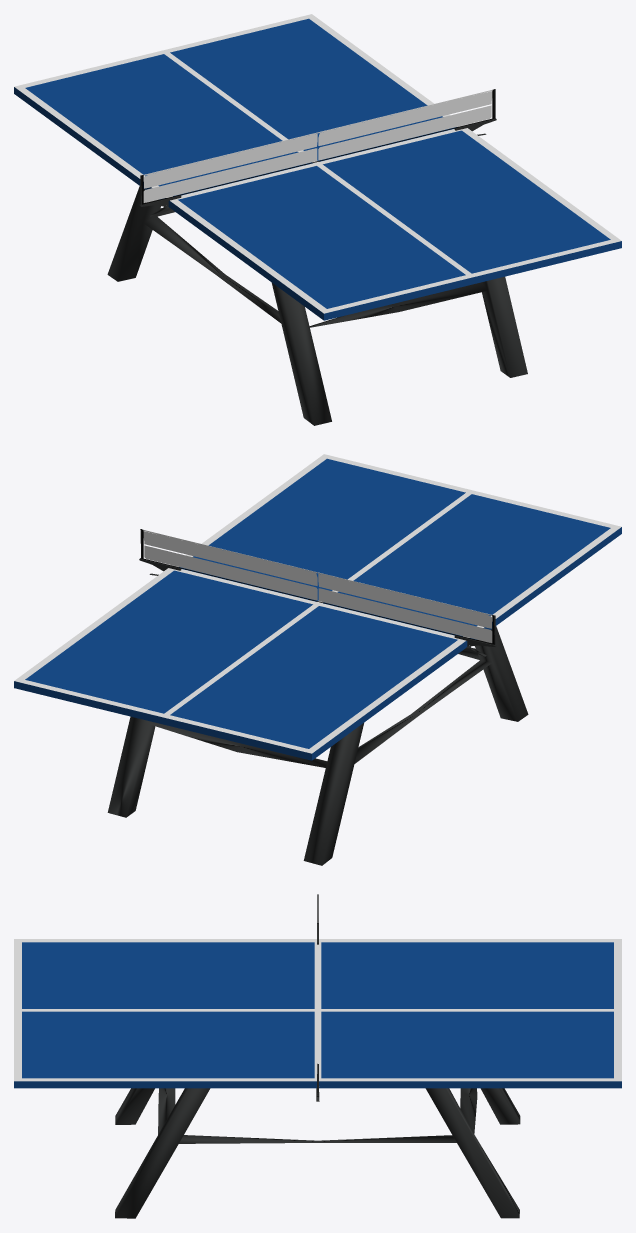
File: table-tennis.glb
The picture shows the model from 3 angles, top to bottom: view 1: azimuth 30°, elevation 25°; view 2: azimuth 150°, elevation 25°; view 3: azimuth 270°, elevation 25°; orthographic projection.
Visible parts, largest first — view 1: Table_0, Legs_5, Net_3, NetBorder_4; view 2: Table_0, Legs_5, Net_3, NetBorder_4; view 3: Table_0, Legs_5.
Boxes of the visible parts, <box> form: Table_0: <box>14,14,621,320</box>; Legs_5: <box>107,186,527,425</box>; Net_3: <box>143,91,492,202</box>; NetBorder_4: <box>141,89,494,204</box>; Table_0: <box>14,454,621,760</box>; Legs_5: <box>107,626,528,865</box>; Net_3: <box>143,531,492,642</box>; NetBorder_4: <box>141,529,494,644</box>; Table_0: <box>14,939,621,1088</box>; Legs_5: <box>115,1088,520,1218</box>.
Size of the model in its own units: 1.47 by 0.7596 by 2.22.
